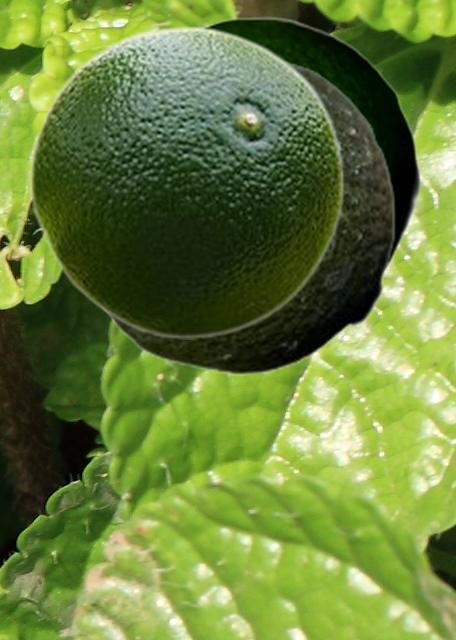calamansi: (28, 25, 345, 338), (96, 55, 395, 374), (199, 16, 421, 275)
